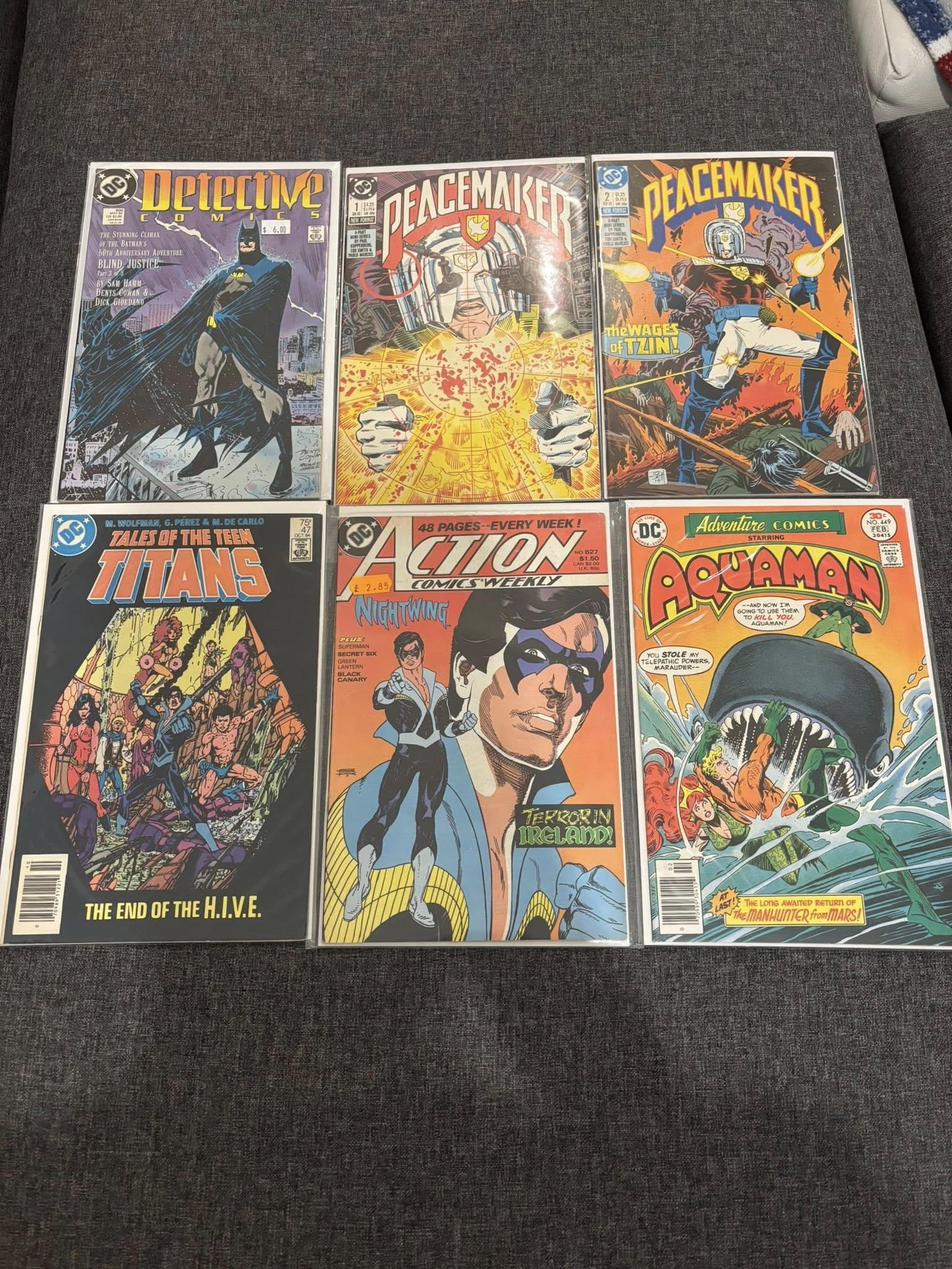comic: (627, 492, 952, 958), (0, 498, 325, 947), (307, 502, 628, 950), (593, 149, 878, 503), (52, 158, 338, 505), (329, 159, 601, 506)
